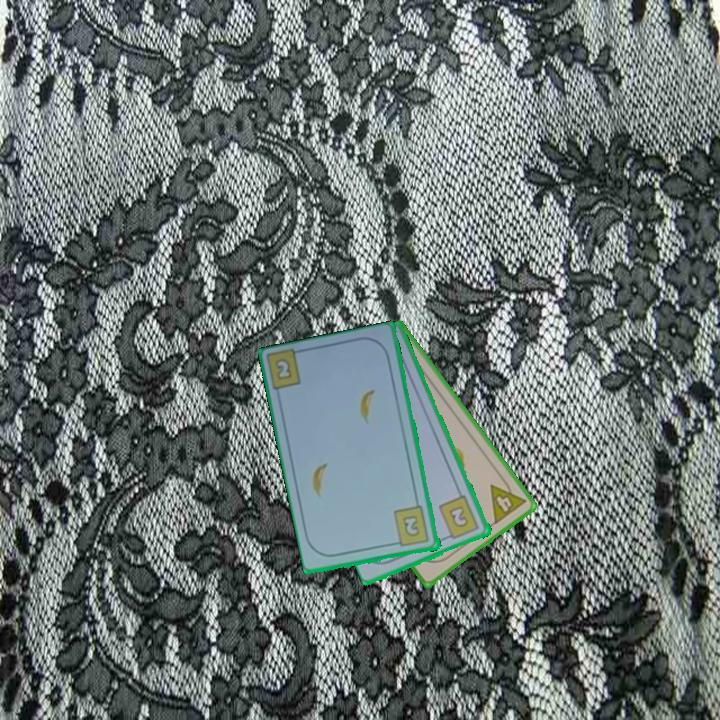2b: (435, 492, 482, 542), (390, 503, 432, 550), (274, 357, 293, 381)
4p: (486, 473, 529, 527)
